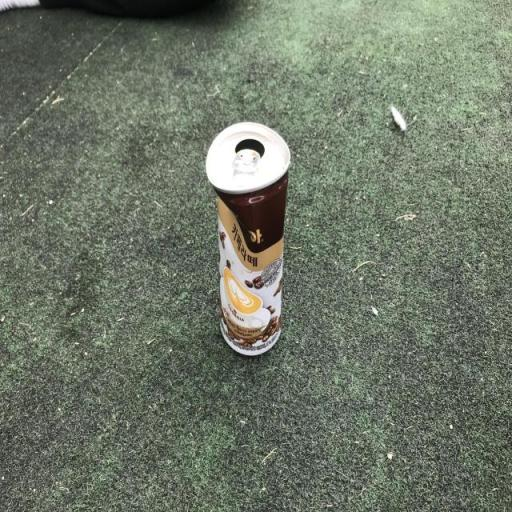metal: (190, 114, 314, 382)
